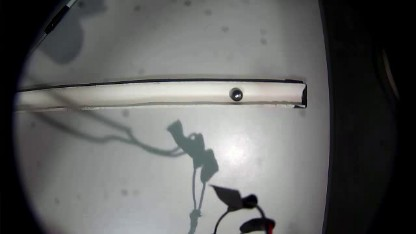gangzhu: (228, 86, 245, 102)
